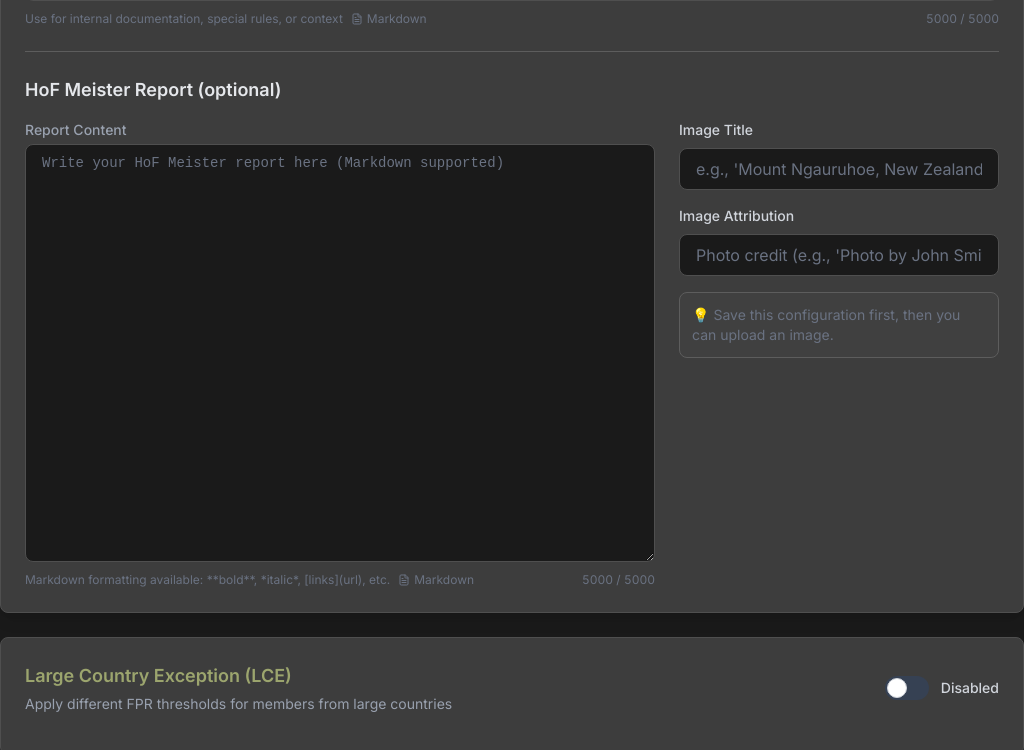
Scenario: ConfigurationForm › LCE Configuration › shows LCE section when enabled
(page scrolled)
Note: Enable LCE
Click the checkbox at (942, 688), box [885, 676, 999, 700]
(page scrolled)
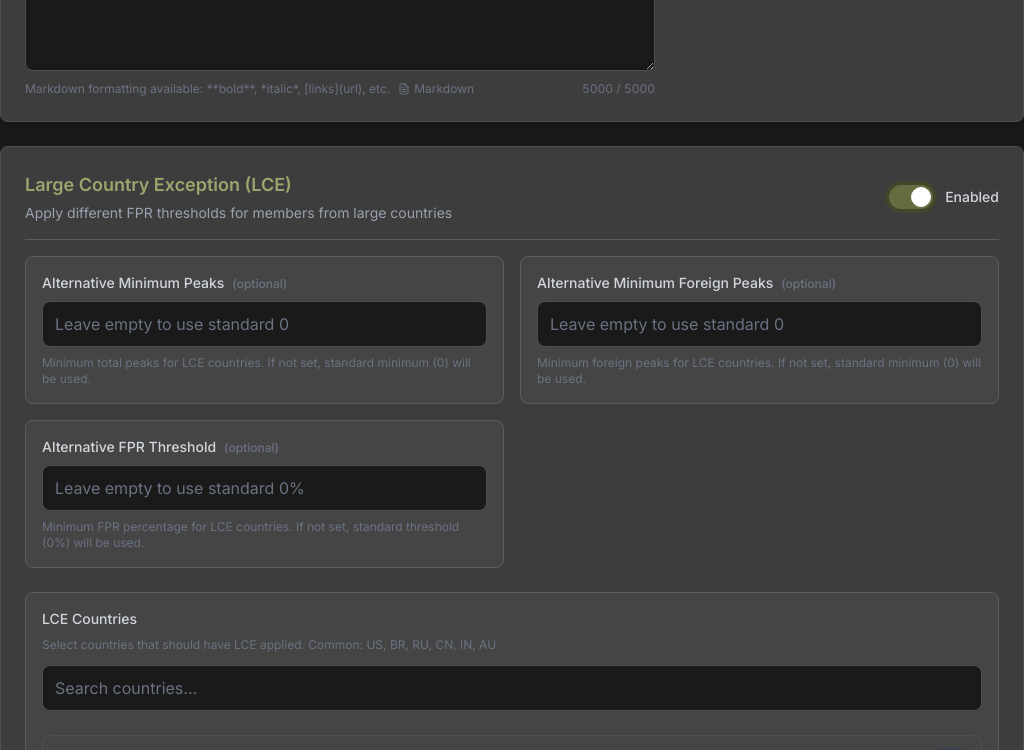
Expected: the text "Alternative FPR Threshold(optional)" is shown, [42, 438, 279, 455]
Expected: the text "LCE countries" is shown, [42, 355, 437, 370]
